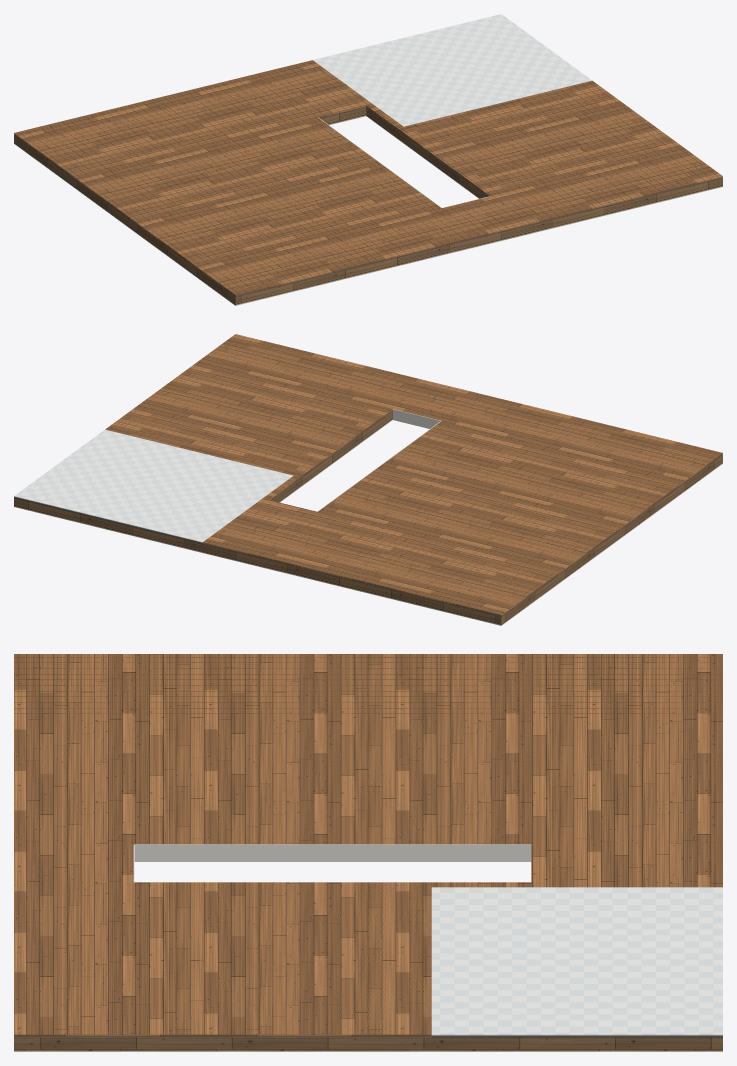
Rendered from slab1.glb.
3 renders of one model, top to bottom at view 1: azimuth 30°, elevation 25°; view 2: azimuth 150°, elevation 25°; view 3: azimuth 270°, elevation 25°, orthographic. The views are drawn at different scales.
Parts seen in each view (by area): view 1: slab1_floor, slab1_porcelain, slab1_tile, slab1_planks, slab1_ceiling, slab1_dark; view 2: slab1_floor, slab1_tile, slab1_porcelain, slab1_planks, slab1_ceiling, slab1_dark, slab1_trim; view 3: slab1_floor, slab1_porcelain, slab1_tile, slab1_planks, slab1_trim, slab1_dark, slab1_ceiling.
Part boxes in pixels (bbox=[...]): slab1_floor: bbox=[14, 60, 722, 295]; slab1_porcelain: bbox=[313, 14, 591, 126]; slab1_tile: bbox=[316, 14, 589, 124]; slab1_planks: bbox=[14, 107, 722, 305]; slab1_ceiling: bbox=[14, 115, 722, 305]; slab1_dark: bbox=[14, 106, 722, 296]; slab1_floor: bbox=[105, 334, 722, 615]; slab1_tile: bbox=[16, 430, 290, 540]; slab1_porcelain: bbox=[14, 429, 293, 542]; slab1_planks: bbox=[14, 411, 722, 625]; slab1_ceiling: bbox=[14, 420, 722, 625]; slab1_dark: bbox=[14, 410, 722, 616]; slab1_trim: bbox=[317, 409, 441, 511]; slab1_floor: bbox=[14, 654, 722, 1036]; slab1_porcelain: bbox=[431, 887, 722, 1035]; slab1_tile: bbox=[431, 887, 722, 1035]; slab1_planks: bbox=[14, 1036, 722, 1050]; slab1_trim: bbox=[133, 844, 531, 882]; slab1_dark: bbox=[14, 1035, 722, 1037]; slab1_ceiling: bbox=[14, 1051, 722, 1051].
Bounding box in the file's own units: 9.4 × 0.2 × 7.4.
7 materials, 3 textured.
